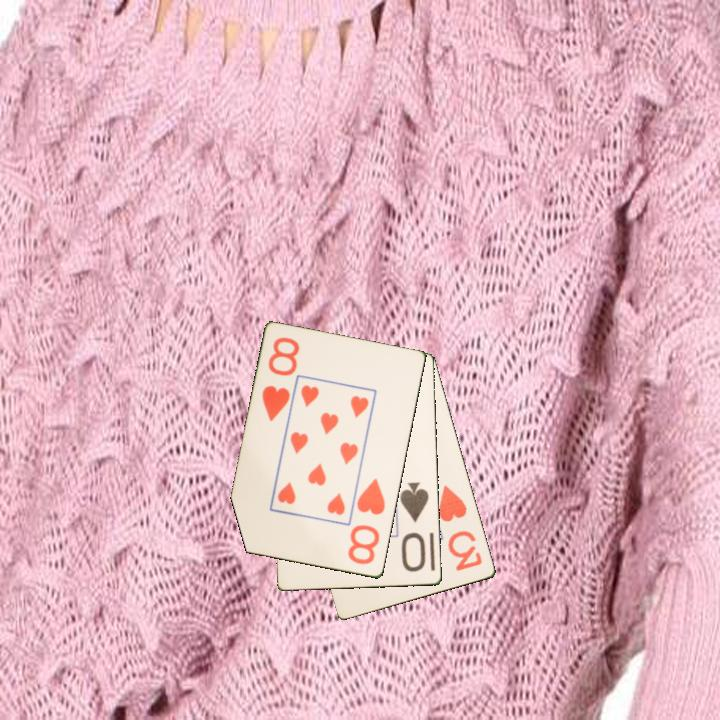10s: (397, 479, 432, 575)
3h: (435, 482, 485, 574)
8h: (258, 334, 303, 425), (344, 475, 388, 568)
